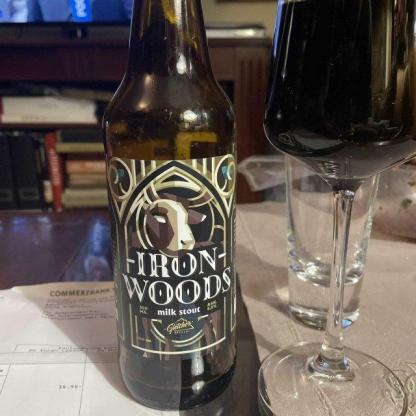Can: (259, 0, 416, 416), (104, 0, 237, 411)
